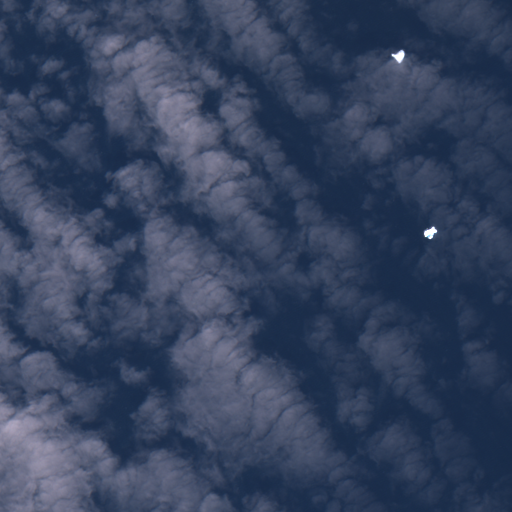Iceberg: (391, 50, 404, 62), (424, 226, 436, 238)
